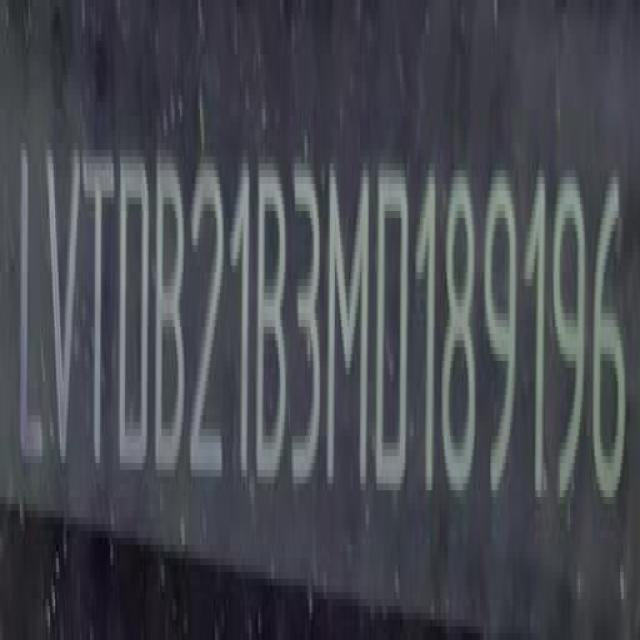1: (525, 172, 548, 515), (230, 156, 253, 494), (417, 160, 437, 504)
2: (193, 156, 230, 494)
3: (294, 152, 324, 501)
6: (593, 171, 630, 515)
8: (444, 165, 480, 505)
9: (483, 170, 520, 512), (552, 173, 589, 513)
B: (256, 153, 290, 493), (157, 160, 190, 485)
D: (378, 151, 417, 502), (116, 150, 153, 483)
L: (15, 142, 46, 479)
M: (327, 154, 373, 503)
T: (84, 146, 114, 482)
V: (41, 144, 81, 482)
